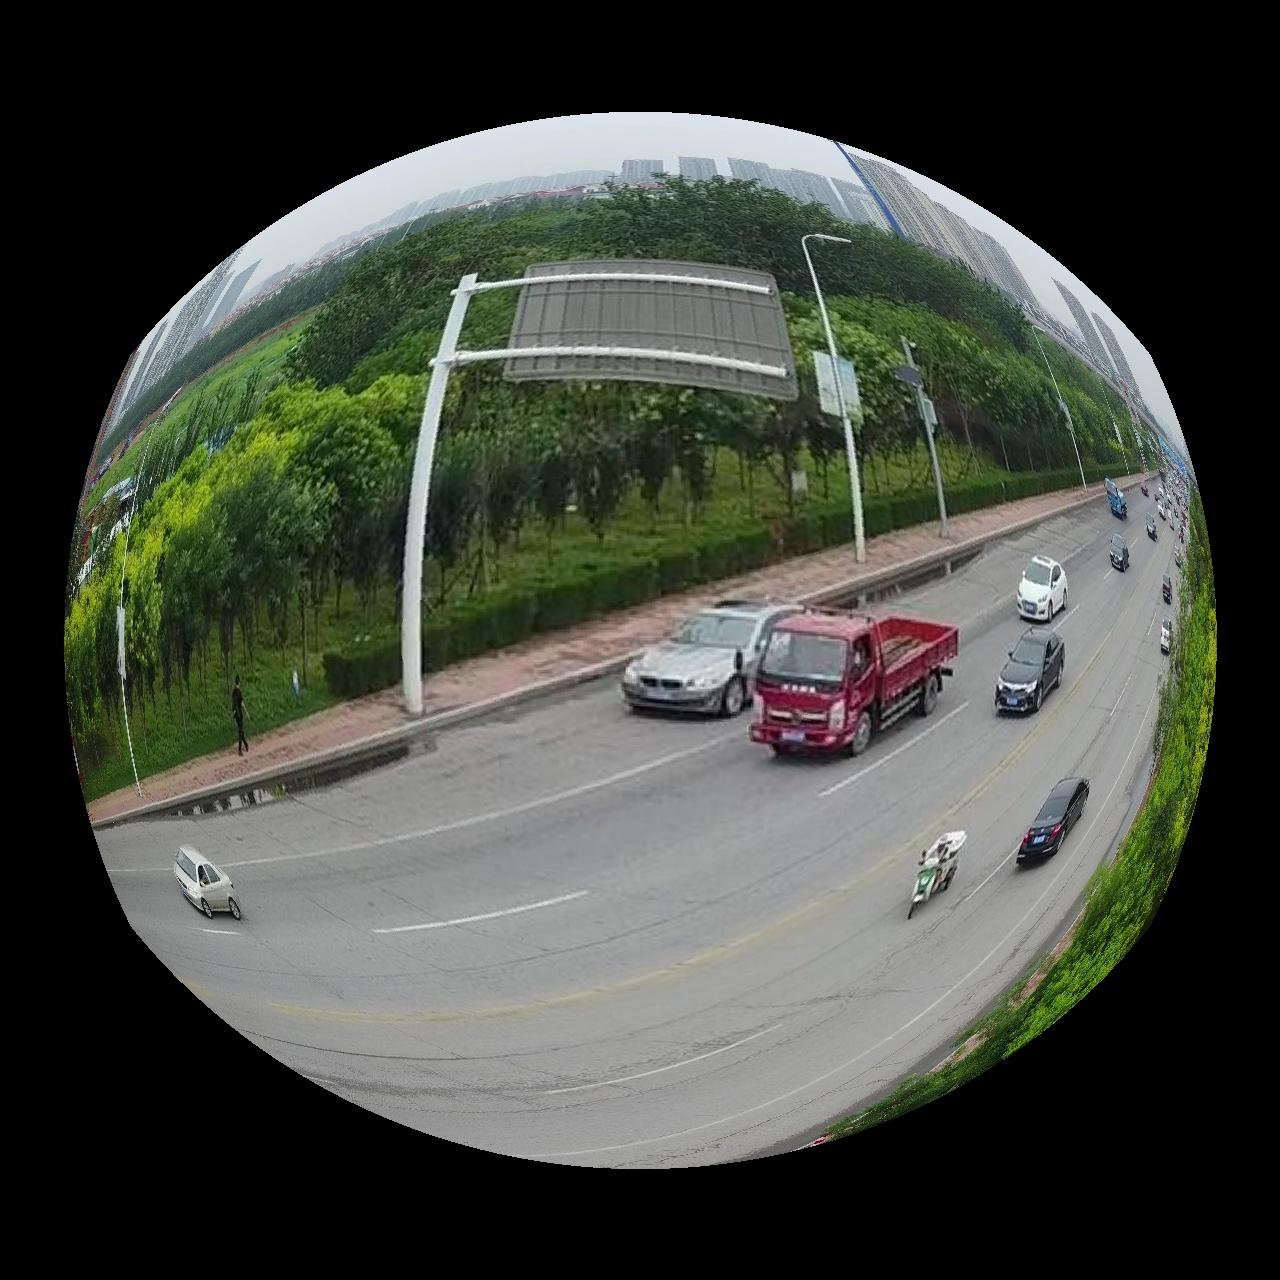cars: (753, 612, 959, 755), (622, 602, 801, 716), (1017, 779, 1090, 866), (999, 629, 1067, 715), (171, 847, 241, 921), (911, 831, 969, 919), (1019, 554, 1071, 622)
trees: (828, 492, 1218, 1141), (266, 177, 1026, 390), (68, 341, 424, 783), (415, 322, 843, 669), (926, 316, 1071, 508)
